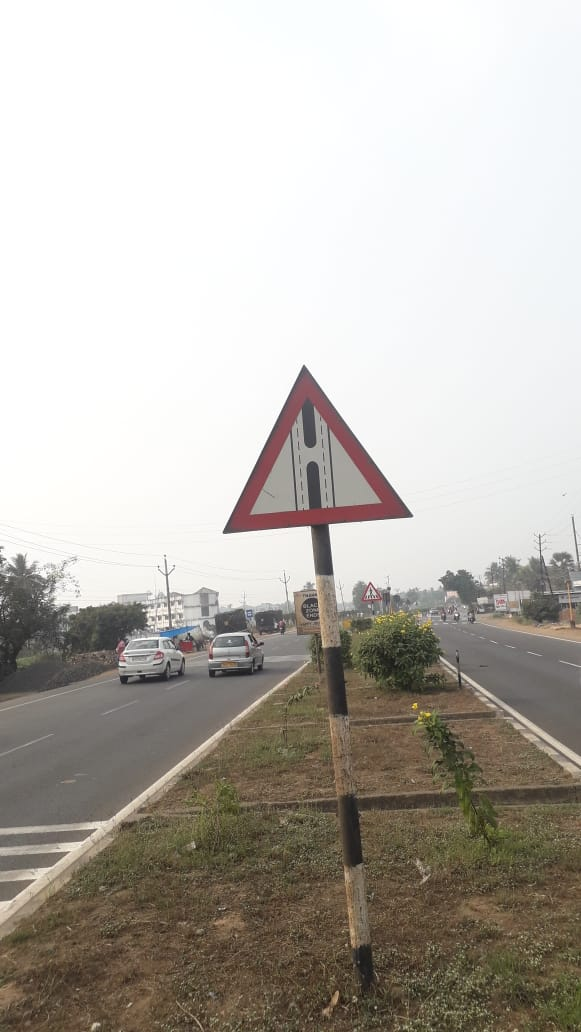highway go straight: (201, 360, 429, 564)
